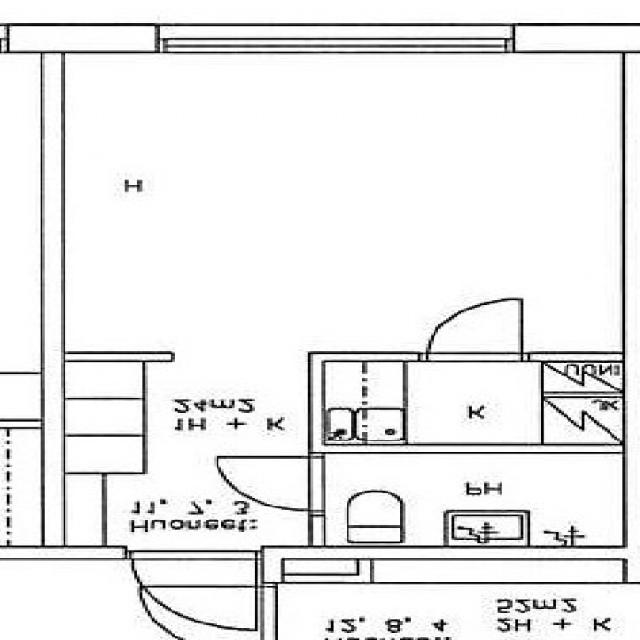door: (133, 547, 256, 631), (429, 299, 522, 361), (218, 458, 324, 512)
